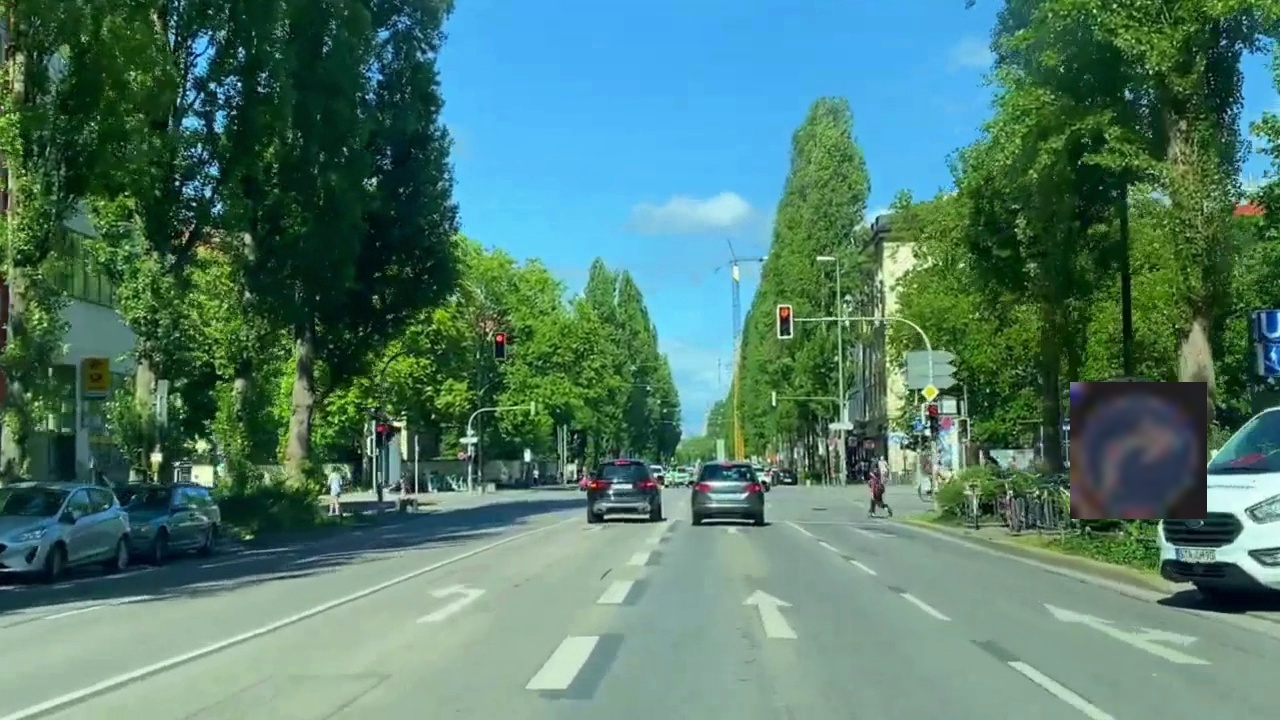Turn right: (1070, 382, 1207, 519)
